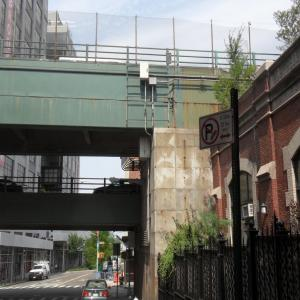Vehicle-registration-plate: (94, 293, 100, 299)
